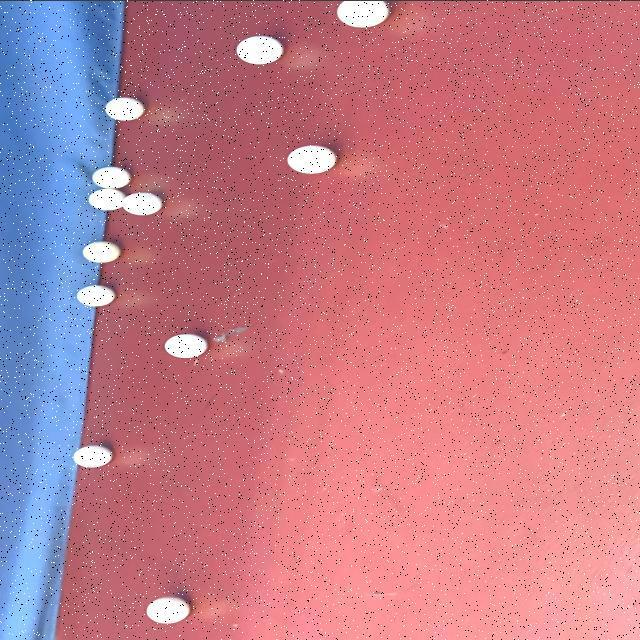ping-pong-ball: (332, 0, 397, 30), (284, 142, 338, 174), (234, 34, 288, 66), (142, 592, 193, 625), (160, 330, 212, 360), (119, 189, 167, 216), (69, 441, 115, 469), (72, 282, 120, 308), (81, 238, 125, 266), (101, 95, 148, 121), (89, 163, 133, 189), (82, 188, 127, 210)
